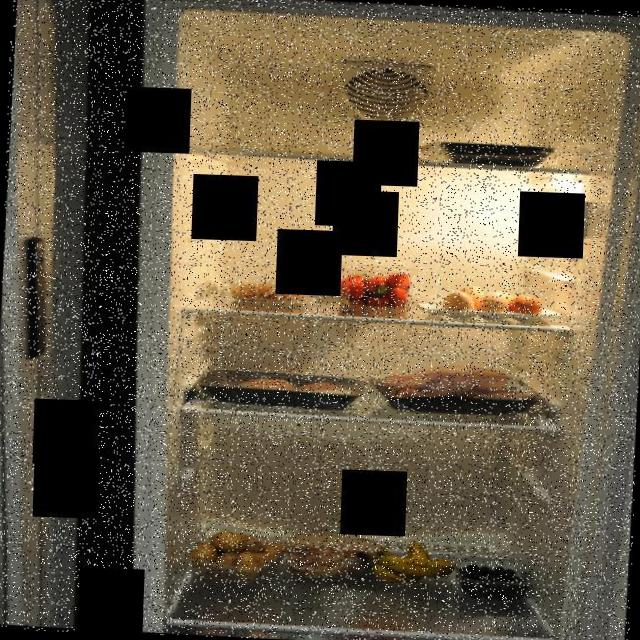Carne pollo: (371, 353, 553, 417), (193, 366, 364, 411)
Gambas/Langostinos: (226, 278, 306, 303)
Huevos: (438, 280, 544, 324)
Patata: (186, 526, 286, 583)
Plátano: (351, 534, 460, 588)
